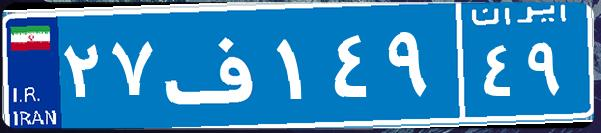1: (273, 28, 330, 110)
2: (57, 26, 110, 107)
4: (330, 28, 385, 110), (475, 38, 525, 113)
7: (110, 28, 158, 105)
9: (385, 28, 445, 110), (525, 38, 570, 115)
ف: (158, 15, 273, 115)
